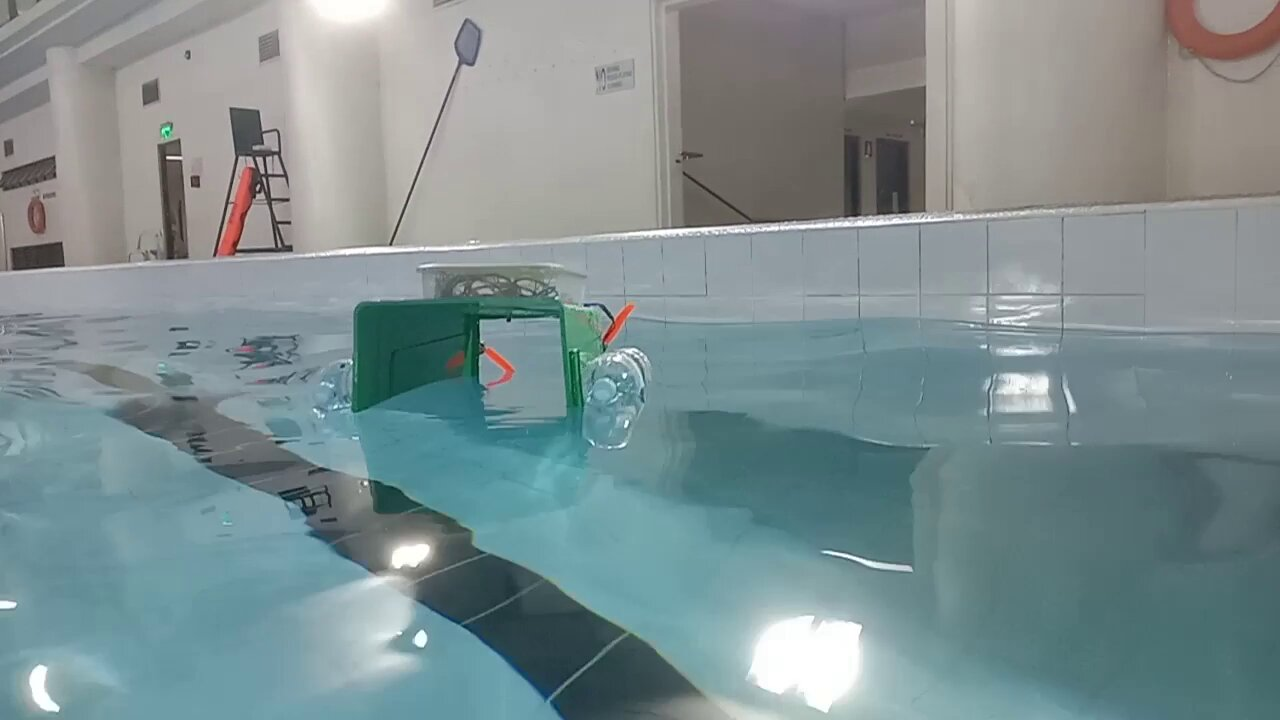drone: (314, 260, 654, 421)
